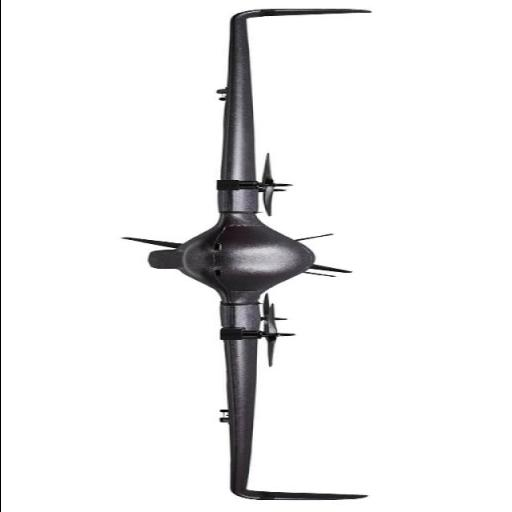uav: (124, 6, 386, 504)
